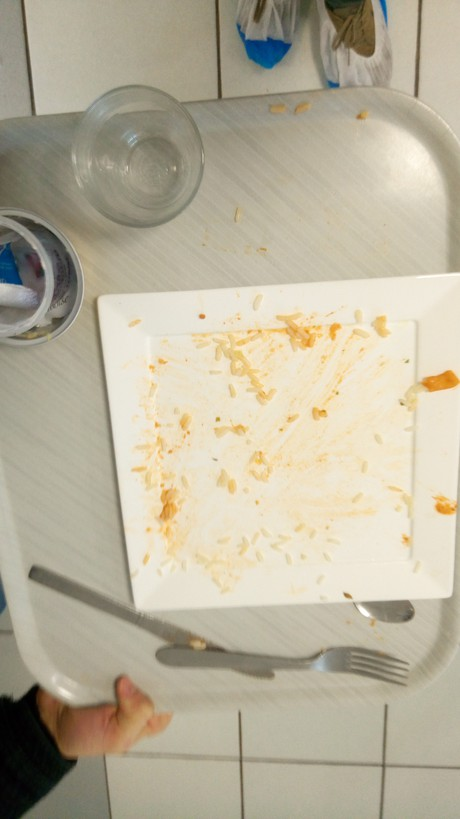cup: (58, 72, 216, 230)
cutlery: (24, 561, 424, 700)
trash: (4, 205, 102, 379)
